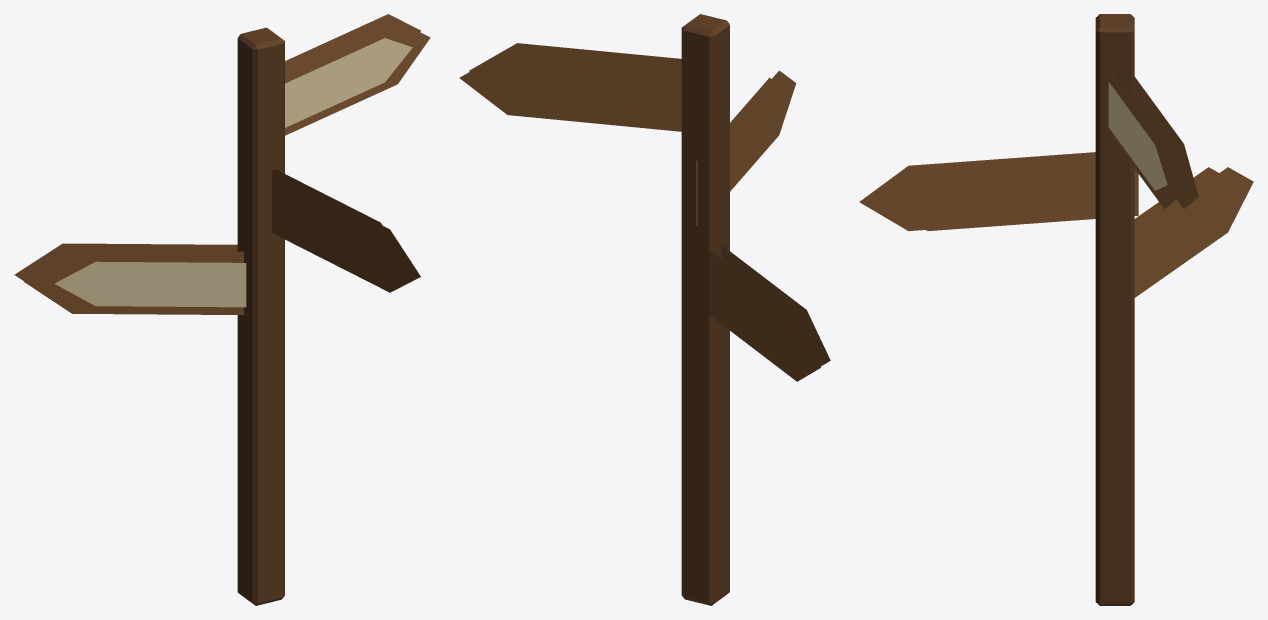
The model's file is map3_signpost_v01.glb.
3 views of the same model, side by side, from view 1: azimuth 30°, elevation 25°; view 2: azimuth 150°, elevation 25°; view 3: azimuth 270°, elevation 25° (orthographic). The views are drawn at different scales.
Visible parts, largest first — view 1: signpost; view 2: signpost; view 3: signpost.
Part boxes in pixels (box(x1,y1,x2,y2)): signpost: box(14, 14, 430, 605); signpost: box(459, 14, 830, 605); signpost: box(859, 14, 1253, 605).
Size of the model in its own units: 1.63 by 2.3 by 1.42.
